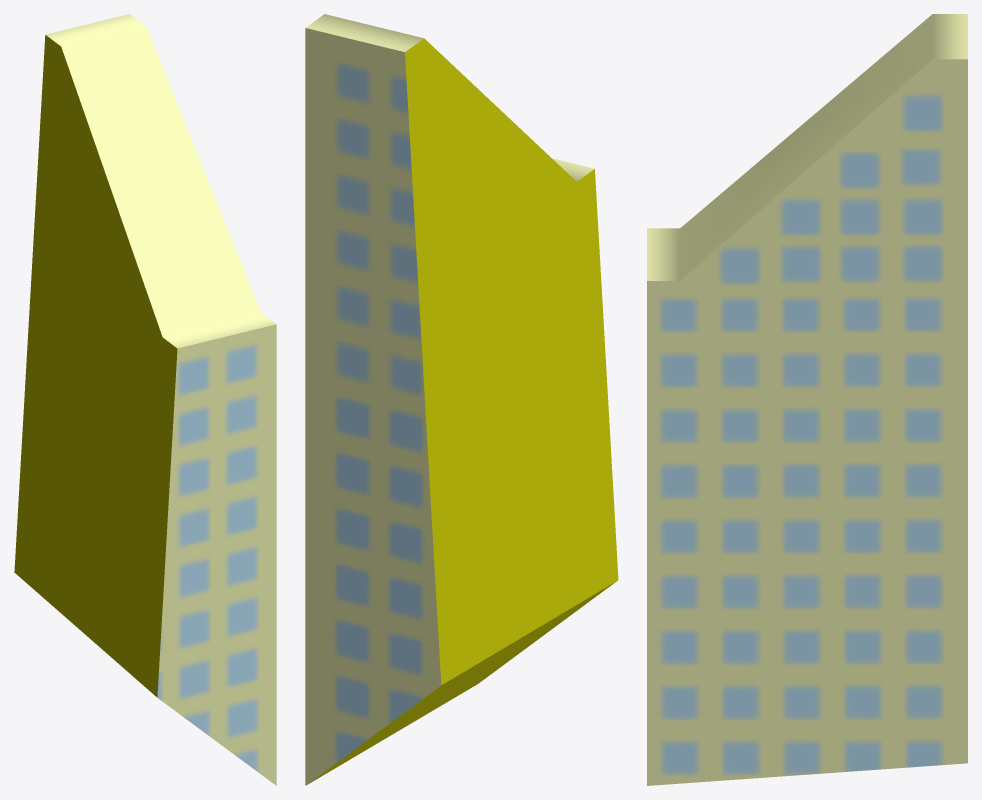
The model's file is cShard4.fbx.
3 views of the same model, side by side, from view 1: azimuth 30°, elevation 25°; view 2: azimuth 150°, elevation 25°; view 3: azimuth 270°, elevation 25° (orthographic). The views are drawn at different scales.
Visible parts, largest first — view 1: shard39; view 2: shard39; view 3: shard39.
Boxes of the visible parts, x1,y1,x2,y2 form: shard39: [14, 14, 276, 785]; shard39: [305, 14, 618, 785]; shard39: [647, 14, 967, 785].
Bounding box in the file's own units: 0.043 × 0.229 × 0.0917.
2 materials, 1 textured.
